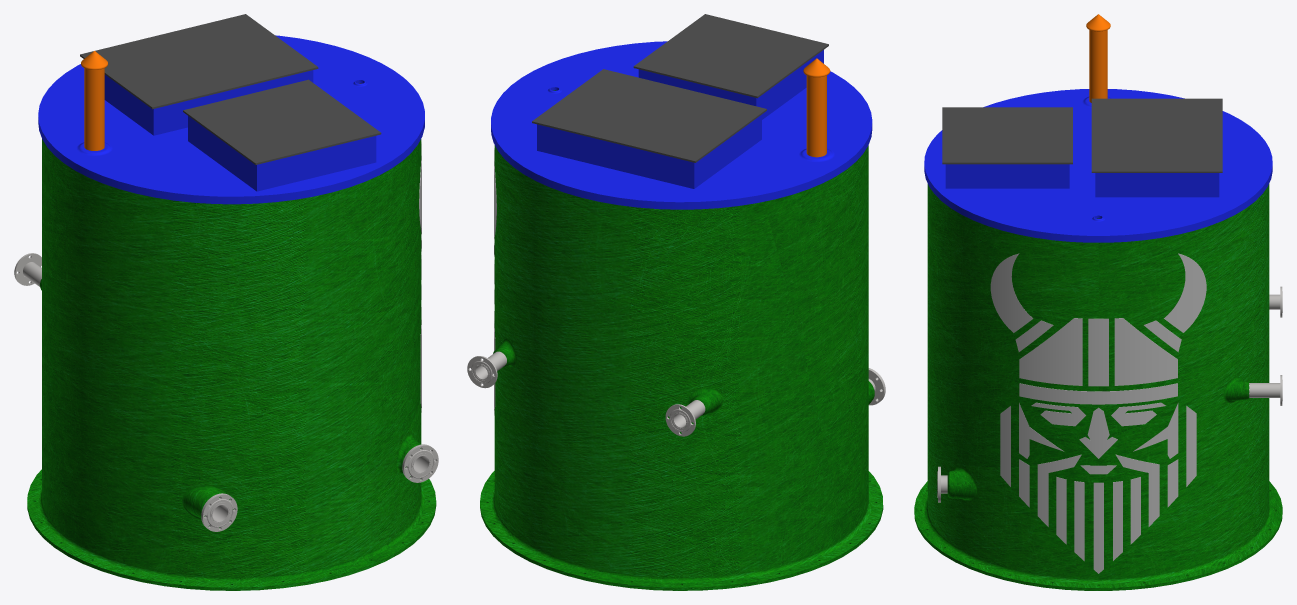
Rendered from spt80-50.glb.
3 views of the same model, side by side, from view 1: azimuth 30°, elevation 25°; view 2: azimuth 150°, elevation 25°; view 3: azimuth 270°, elevation 25° (orthographic). The views are drawn at different scales.
Parts seen in each view (by area): view 1: Твердое тело1 (×3), Solid1 (×2), Твердое тело2; view 2: Твердое тело1 (×3), Твердое тело2, Solid1 (×2); view 3: Твердое тело1 (×4), Твердое тело2.
Boxes of the visible parts, <box> form: Твердое тело1 (×3): <box>27,14,436,590</box>; Solid1 (×2): <box>201,444,438,531</box>; Твердое тело2: <box>84,68,104,150</box>; Твердое тело1 (×3): <box>480,14,883,590</box>; Твердое тело2: <box>806,75,826,157</box>; Solid1 (×2): <box>467,356,695,436</box>; Твердое тело1 (×4): <box>914,89,1282,590</box>; Твердое тело2: <box>1089,30,1107,102</box>.
Size of the model in its own units: 2.2 by 2.89 by 2.2.
19 materials, 2 textured.
